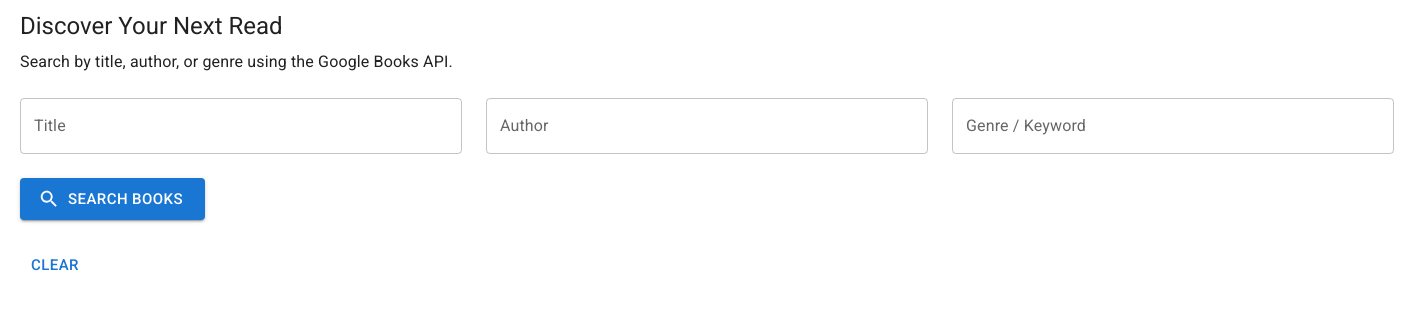
it: SearchForm › shows validation error when submitting empty form
Click the button "Search Books" at (112, 199), box [20,178,205,220]
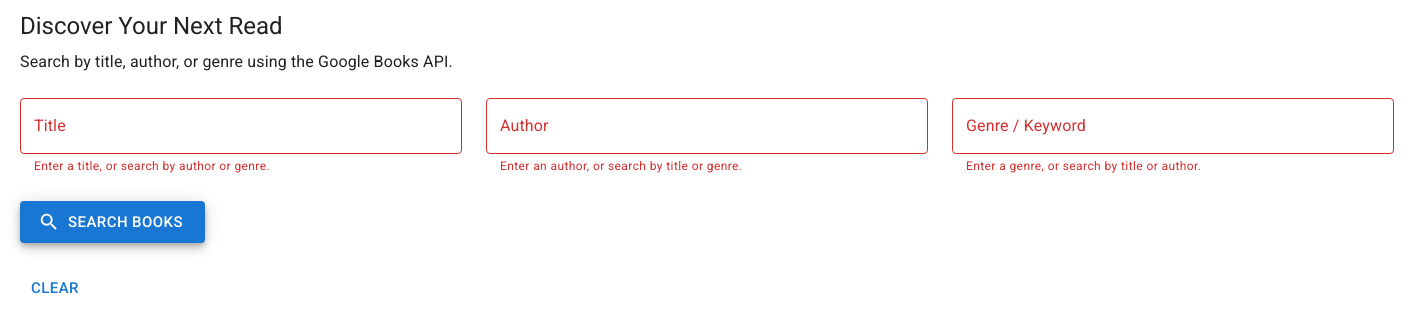
Expected: the text "Enter a title, or search by author or genre." is shown, [34,159,270,173]
Expected: the text "Enter an author, or search by title or genre." is shown, [500,159,742,173]
Expected: the text "Enter a genre, or search by title or author." is shown, [966,159,1201,173]
